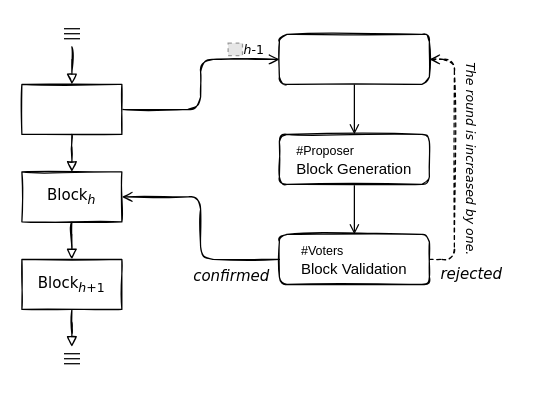
This 539x393 diagram has some shape labels left out. Grey dashed boxes stand in for pictures. The shapes that lost their labels are listed below. From the top down, each one's centre as x and y in pixels, then its label:
At point (353, 58): "#Proposer/Voters Election".
At point (71, 108): "Block h -1".
